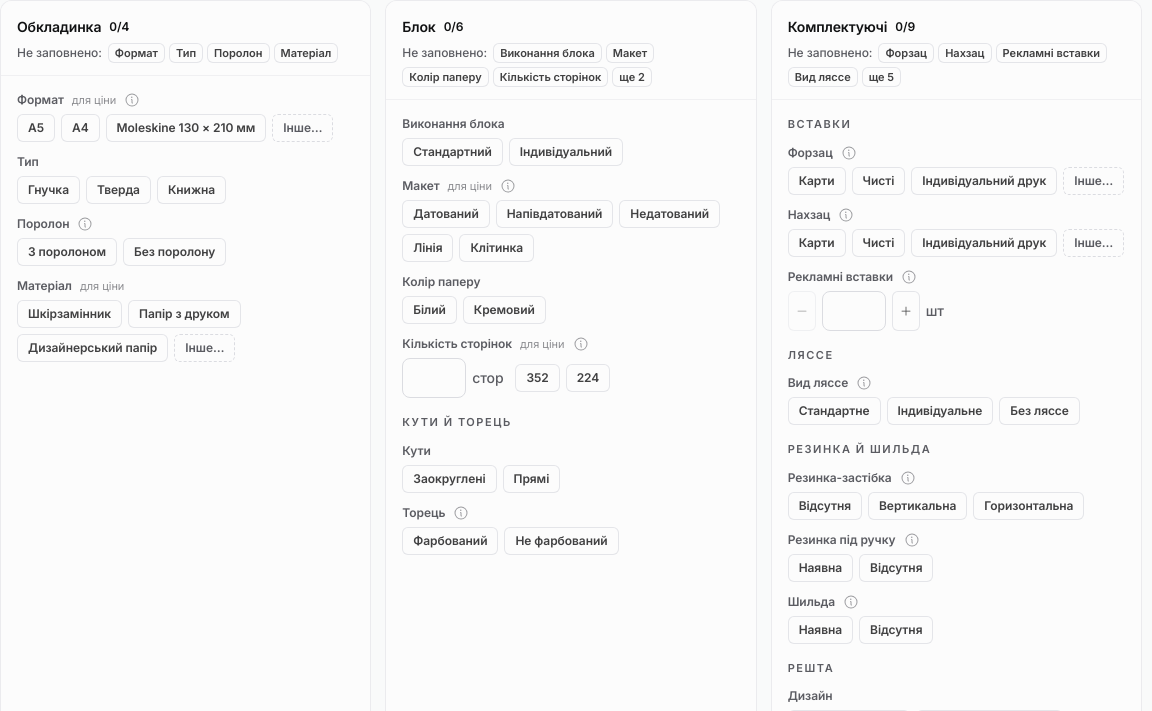
Test case: параметри щоденника › матеріал обкладинки міняє набір оздоблень
Expected: the text "Тиснення фольгою" is not shown
Expected: the text "Шовкотрафарет" is not shown
Click the button "Папір з друком". click: (184, 314)
box: [128, 300, 241, 328]
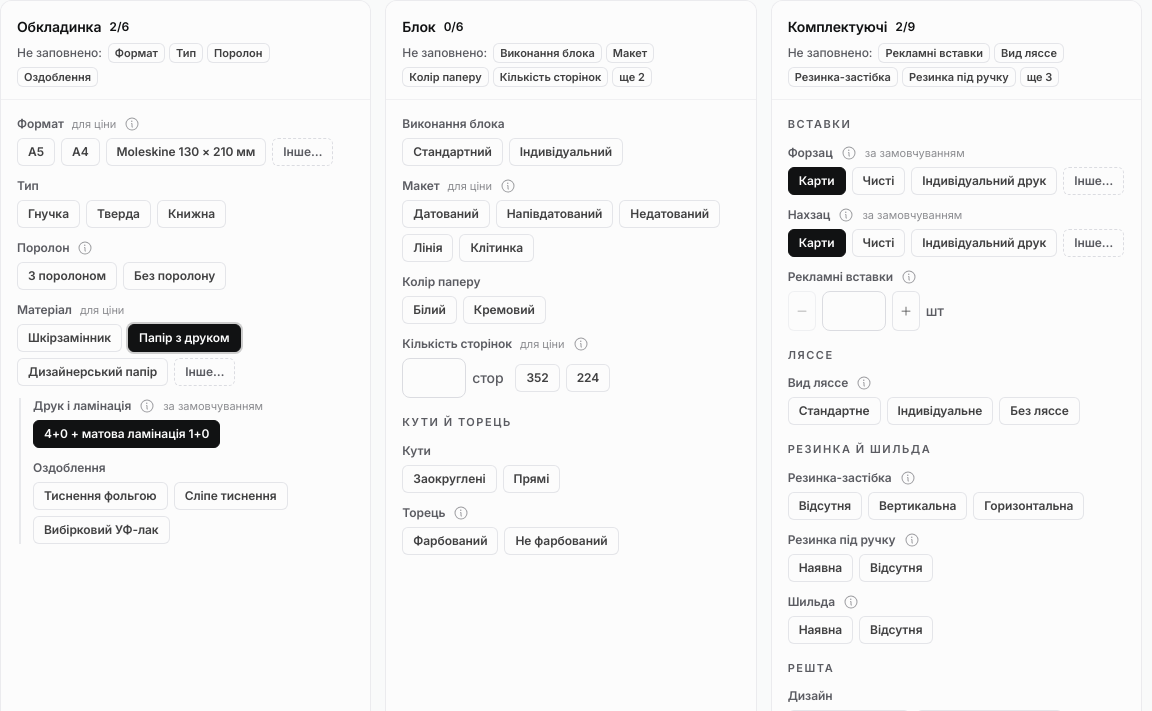
Expected: the text "Шовкотрафарет" is not shown
Result: the text "Друк і ламінація" is shown at [33, 398, 131, 414]
Result: the button "Вибірковий УФ-лак" is shown at [33, 516, 170, 544]
Click the button "Шкірзамінник". click: (70, 338)
box: [17, 324, 122, 352]
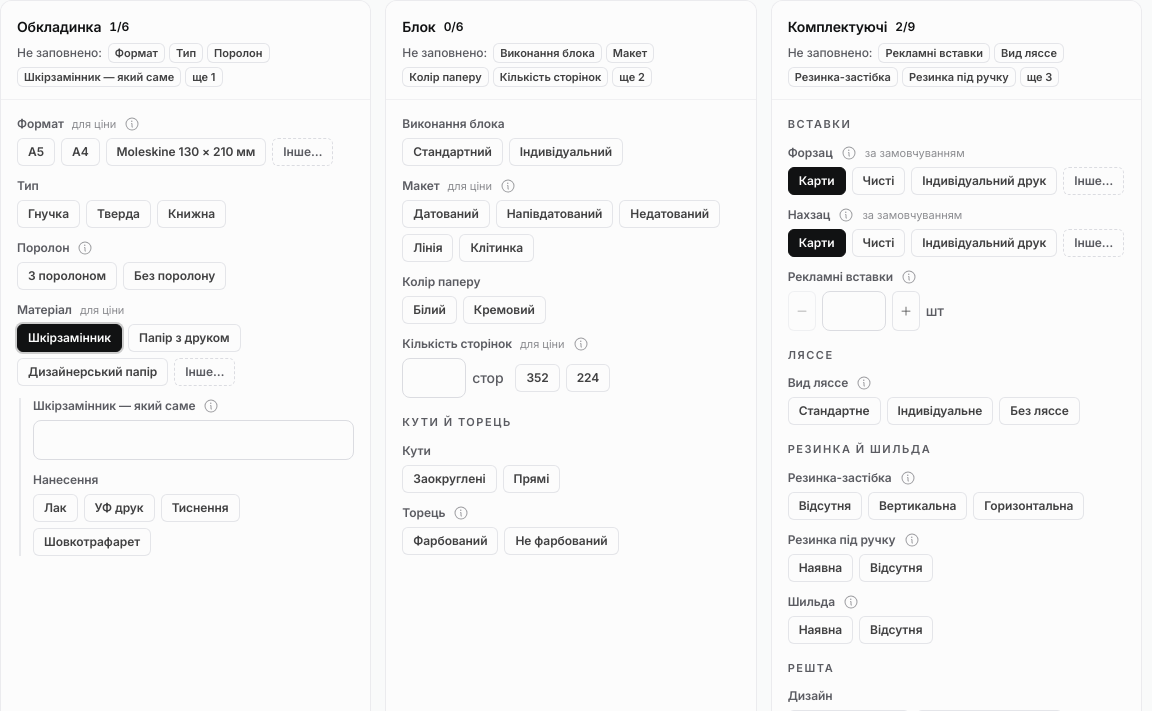
Result: the button "Шовкотрафарет" is shown at [33, 528, 151, 556]
Result: the text "Друк і ламінація" is gone
Result: the button "Вибірковий УФ-лак" is gone
Click the button "Дизайнерський папір". click: (93, 372)
box: [17, 358, 168, 386]
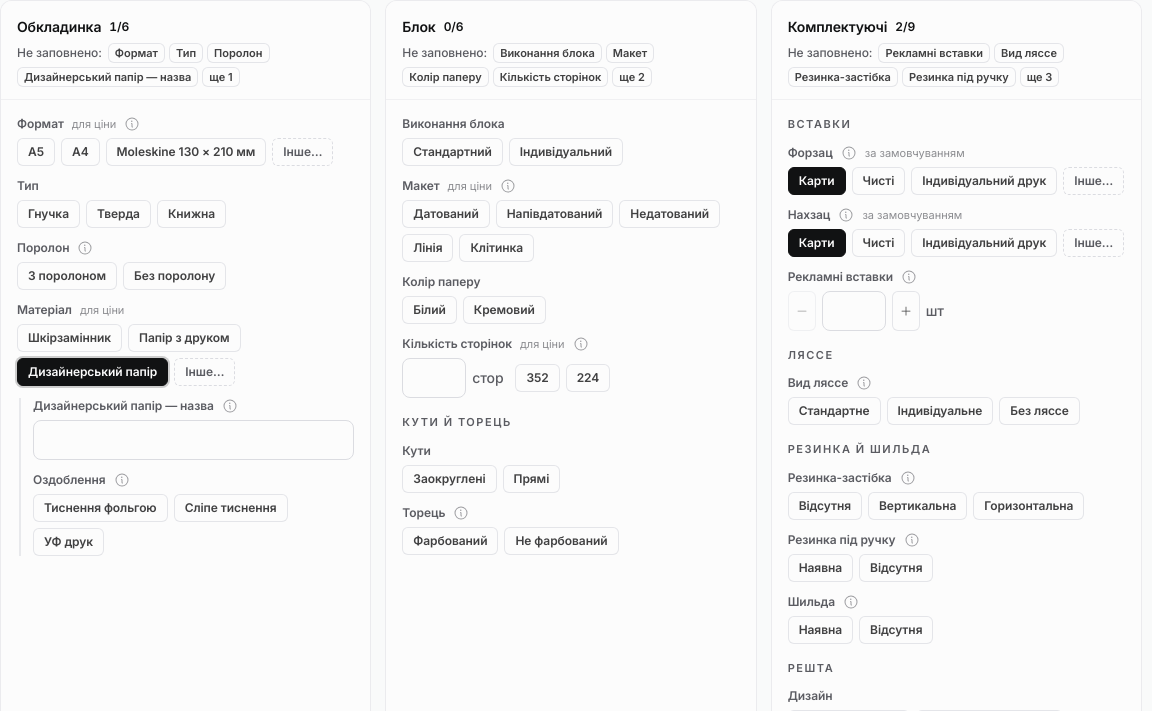
Expected: the text "Друк і ламінація" is not shown
Result: the text "Дизайнерський папір — назва" is shown at [33, 398, 214, 414]
Result: the button named "Підказка: Оздоблення" is shown at [114, 472, 130, 488]
